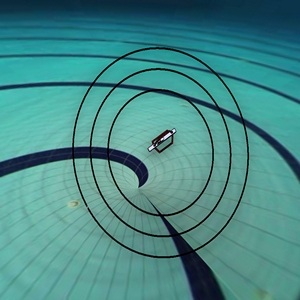circle: (56, 33, 270, 261)
submarine: (141, 119, 179, 157)
